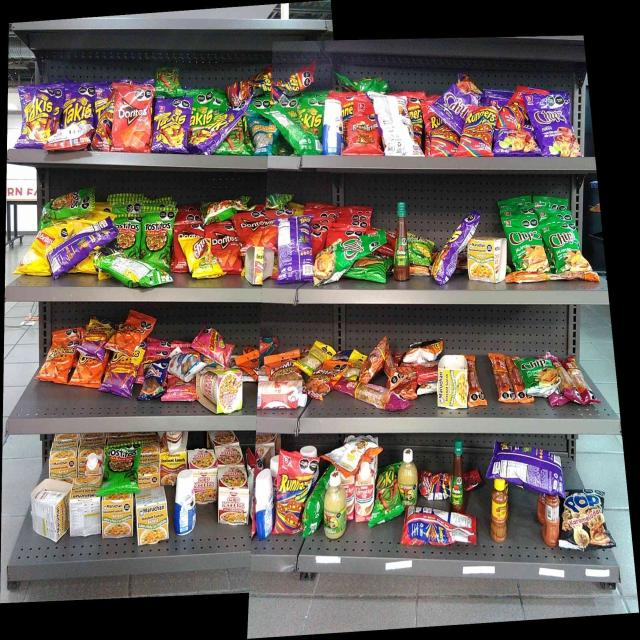bitzEnchilado95: (509, 270, 599, 283), (494, 354, 509, 402), (469, 357, 482, 407), (510, 357, 524, 402)
bitzHabanero: (342, 382, 390, 405), (572, 359, 591, 404), (557, 358, 570, 406)
bokadosCacahuates: (143, 363, 163, 398)
botaneraChilito: (491, 483, 508, 541)
cheetosFlaminHot: (110, 354, 136, 394), (83, 319, 109, 354)
cheetosOriginal: (44, 339, 72, 383), (115, 314, 147, 351), (76, 357, 101, 387)
chipsFuego: (537, 95, 573, 156), (440, 79, 469, 125), (495, 129, 535, 155)
chipsJalapeno: (319, 234, 372, 284), (550, 223, 588, 268), (510, 224, 547, 268), (526, 356, 554, 396)
chipsPapatinas: (411, 233, 432, 265)
churrumais: (201, 328, 230, 360)
delPrimoSalsa: (324, 471, 347, 538), (401, 449, 417, 504)
doritosNacho: (114, 83, 150, 152), (214, 225, 238, 270), (239, 213, 264, 244)
fritosLimon: (189, 238, 212, 275)
leoCacahuates: (171, 352, 197, 376)
leoMix: (267, 354, 299, 378), (311, 370, 338, 397)
maruchanPollo: (33, 480, 68, 536), (72, 477, 100, 536), (438, 356, 468, 410), (470, 238, 506, 282), (137, 494, 168, 544), (102, 496, 133, 537)
nestleCarnation: (258, 379, 307, 408), (354, 470, 372, 521)
nestleLechera: (254, 468, 274, 538), (323, 99, 344, 155), (175, 471, 192, 535)
nissinCamaron: (199, 370, 242, 411), (194, 450, 216, 503)
nissinRes: (218, 466, 248, 524)
popKarameladas: (565, 490, 607, 549)
productoAtras: (493, 442, 563, 482), (406, 512, 475, 545), (380, 94, 415, 156), (278, 218, 312, 280), (54, 225, 98, 272), (276, 106, 306, 153), (107, 257, 161, 283), (332, 438, 369, 468), (116, 215, 140, 256), (53, 126, 91, 149), (362, 340, 385, 378)
rancheritos: (347, 117, 378, 155)
runners: (278, 452, 303, 534), (231, 64, 270, 102), (276, 65, 315, 99), (470, 105, 493, 157)
sabritasOriginal: (23, 229, 51, 275)
salsaBufalo: (394, 201, 410, 280), (451, 438, 465, 511)
semillasCalabaza: (301, 346, 321, 368)
semillasGirasol: (252, 118, 269, 156)
tajinDulce: (544, 495, 560, 547)
takisFuego: (436, 222, 465, 283), (154, 100, 188, 152), (22, 86, 50, 147), (63, 86, 92, 123), (194, 126, 224, 154)
takisOriginal: (376, 467, 398, 520), (155, 65, 183, 96), (190, 92, 213, 124)
tostitos: (44, 187, 90, 220), (106, 445, 138, 491), (143, 212, 170, 254)
